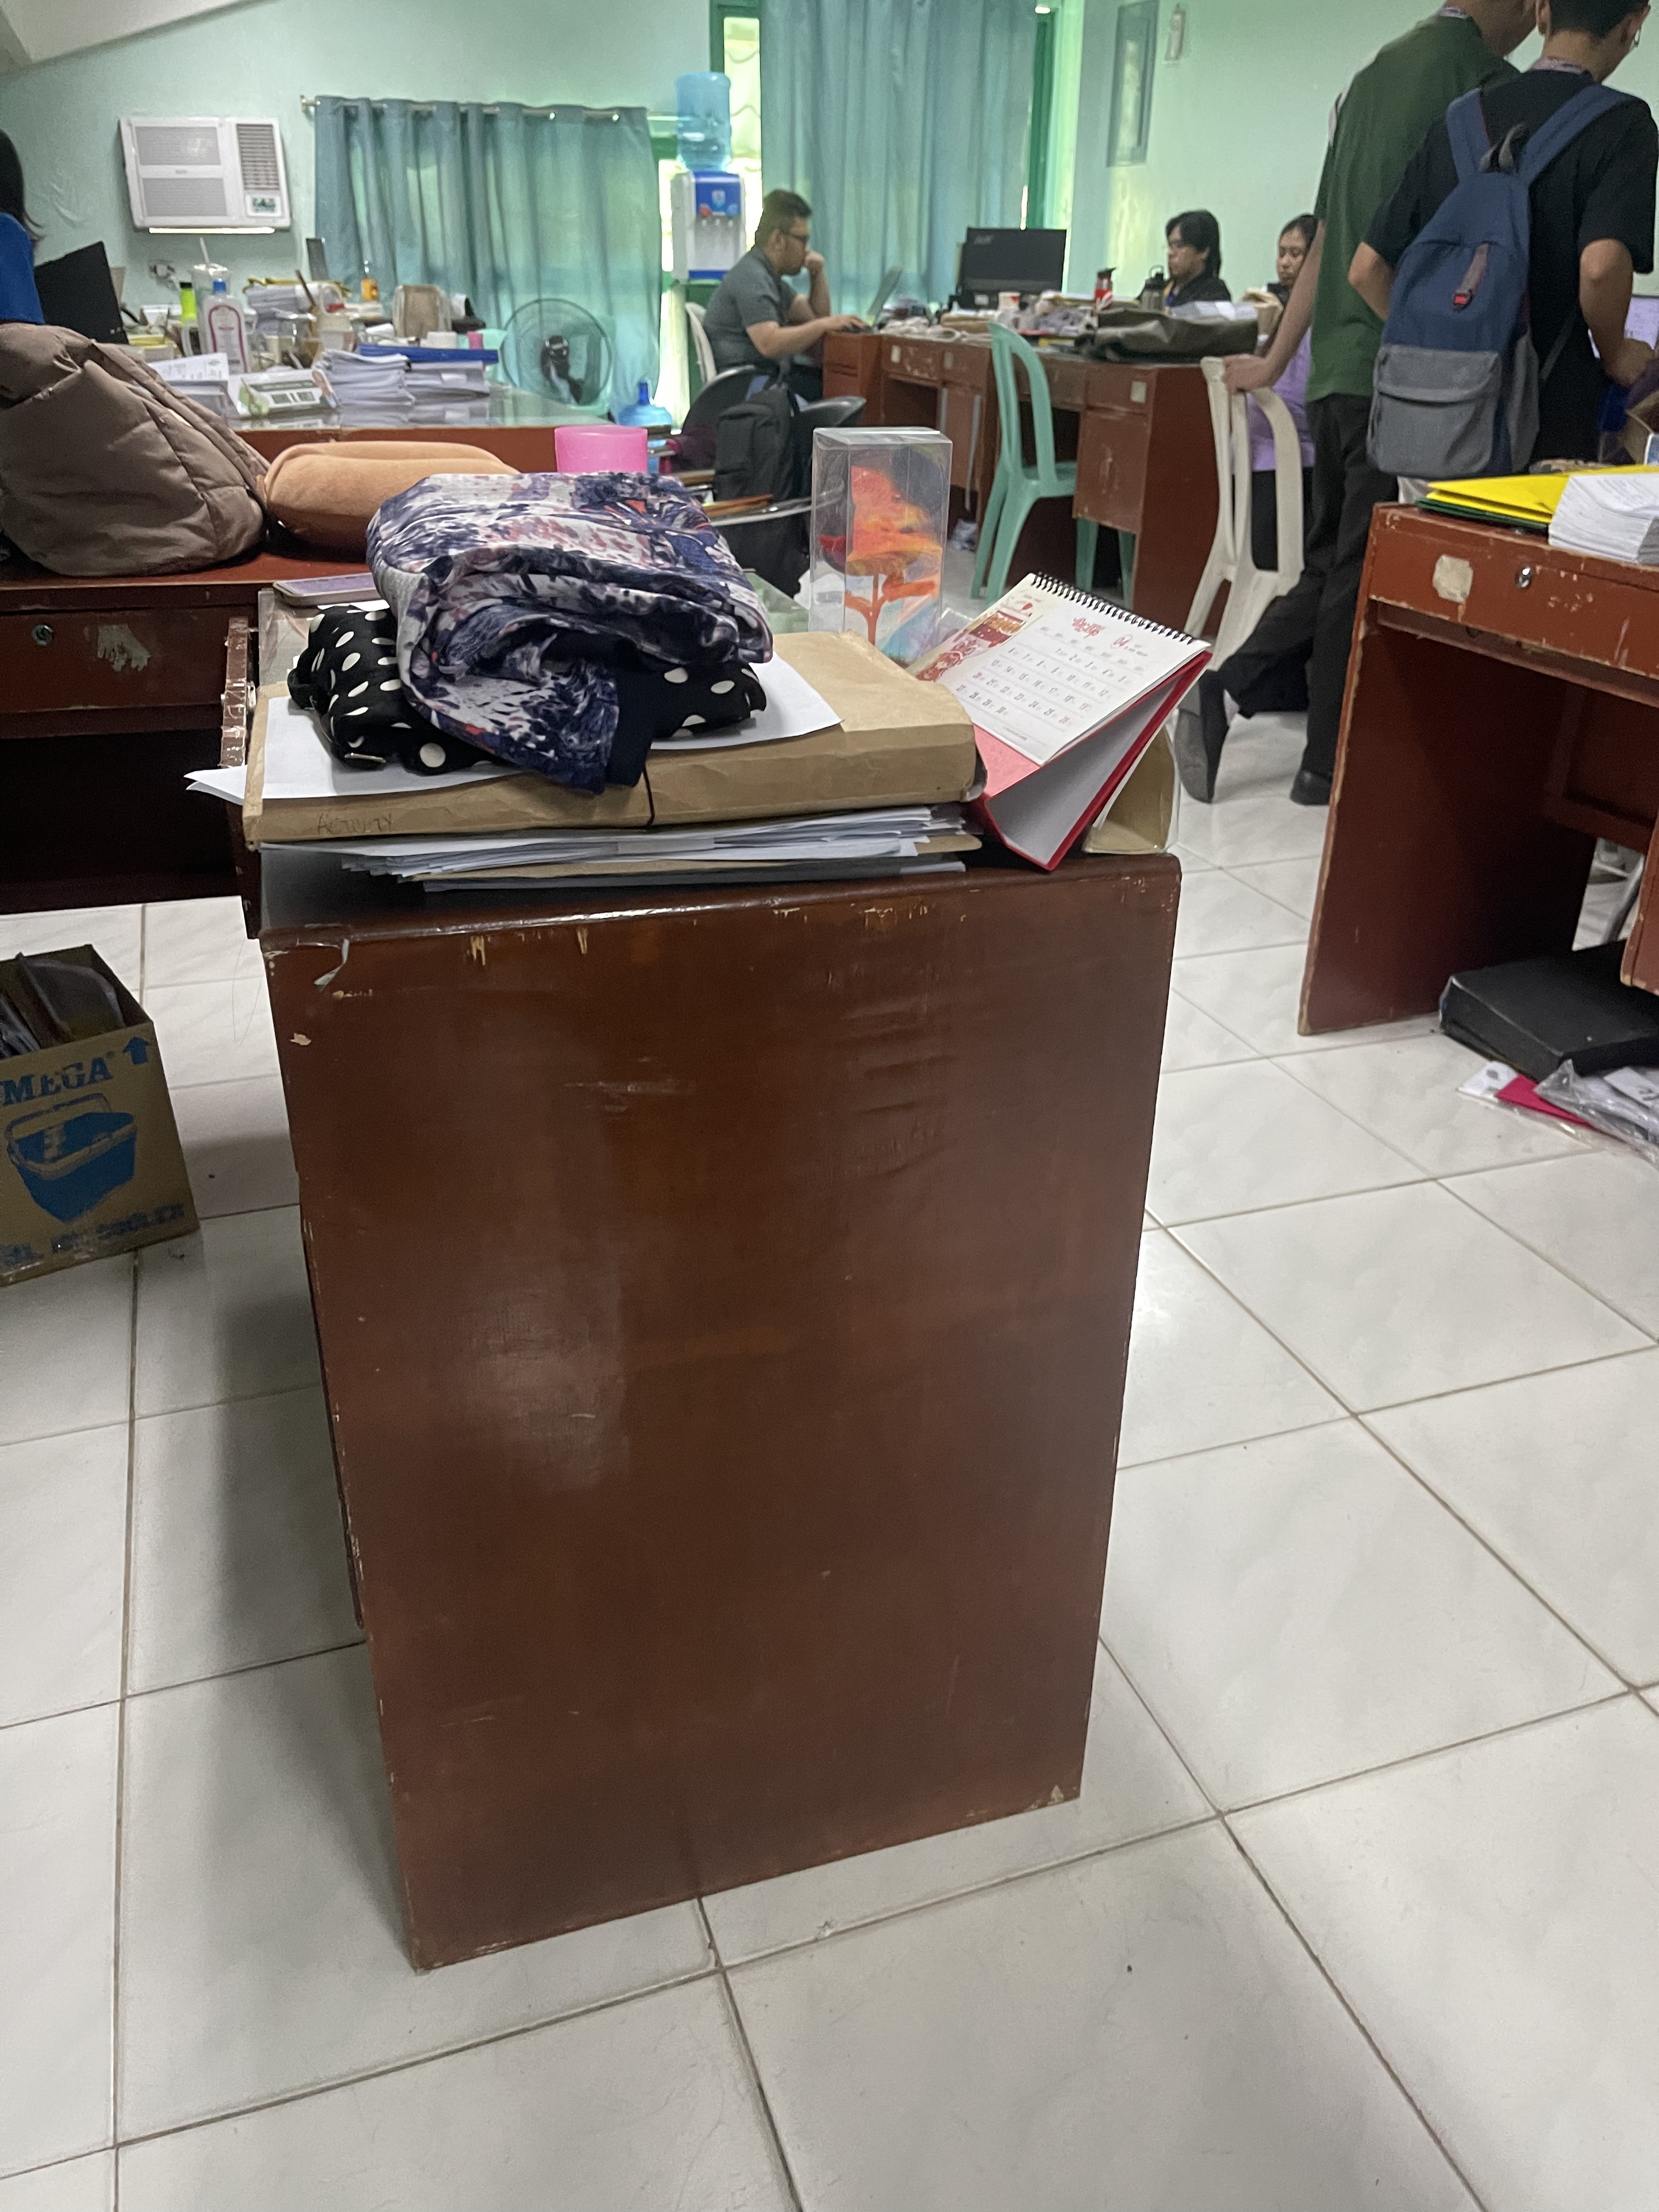table2: (0, 482, 1243, 1977)
